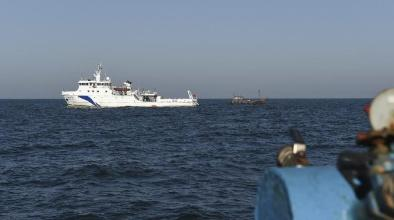otherboat: (59, 68, 195, 118)
